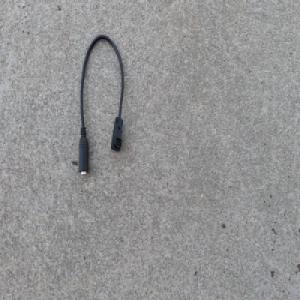Wire: (78, 34, 125, 180)
